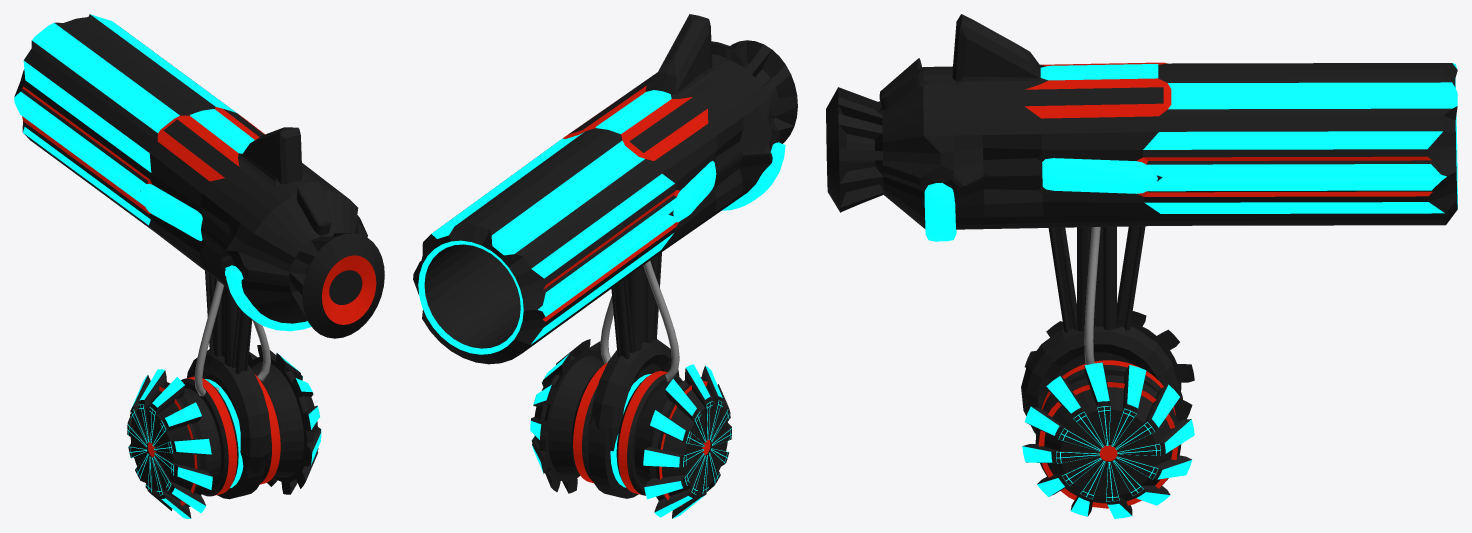
Rendered from racetnica.fbx.
3 views of the same model, side by side, from view 1: azimuth 30°, elevation 25°; view 2: azimuth 150°, elevation 25°; view 3: azimuth 270°, elevation 25° (orthographic). The views are drawn at different scales.
Visible parts, largest first — view 1: Cylinder.004, Gear.004, Cylinder, Torus.001, BezierCurve, Cube.001, Cube.002, Cylinder.001; view 2: Cylinder.004, Gear.004, Cylinder, Torus.001, Cylinder.001, Cube.002, Cube.001, BezierCurve; view 3: Cylinder.004, Gear.004, Torus.001, Cube.002, Cube.001, Cylinder, BezierCurve, Cylinder.001.
Part boxes in pixels (x1,y1,x2,y2): Cylinder.004: (14,14,384,338); Gear.004: (127,345,321,518); Cylinder: (145,358,312,505); Torus.001: (187,349,270,474); BezierCurve: (194,280,270,396); Cube.001: (214,278,237,386); Cube.002: (205,271,252,373); Cylinder.001: (204,375,265,499); Cylinder.004: (413,14,797,364); Gear.004: (530,339,731,518); Cylinder: (539,356,710,506); Torus.001: (590,339,679,451); Cylinder.001: (588,364,661,498); Cube.002: (611,252,661,358); Cube.001: (627,259,652,375); BezierCurve: (600,260,679,381); Cylinder.004: (826,14,1457,241); Gear.004: (1022,311,1194,518); Torus.001: (1021,326,1178,432); Cube.002: (1048,226,1145,332); Cube.001: (1077,226,1116,356); Cylinder: (1038,326,1178,508); BezierCurve: (1084,227,1100,364); Cylinder.001: (1034,352,1183,434).
Size of the model in its own units: 7.37 by 19.96 by 24.13.
